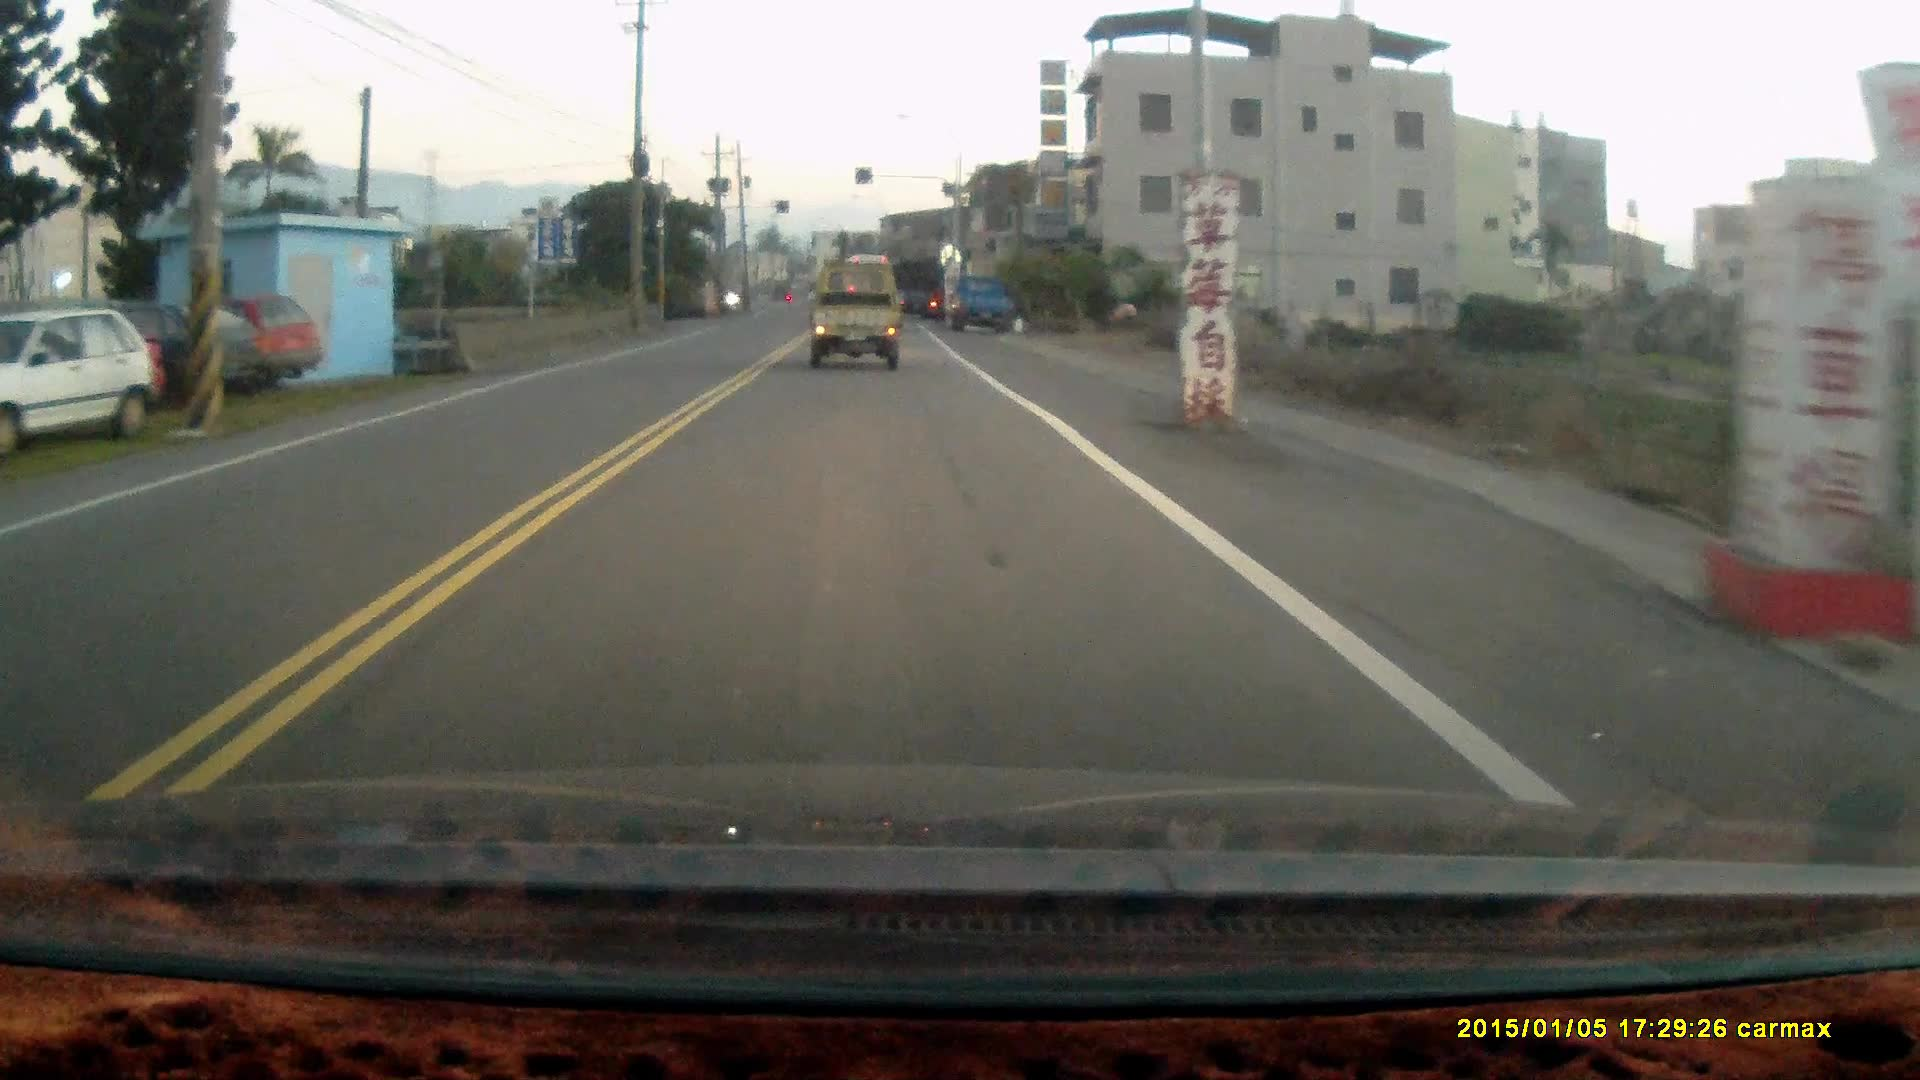vehicle: (105, 294, 326, 394), (1, 314, 157, 448), (812, 277, 905, 376), (947, 272, 1021, 335), (890, 258, 947, 324)
